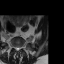CCS_severe_stenosis: (17, 45, 18, 52)
LFS_normal: (20, 45, 22, 49)
LLS_normal: (18, 45, 20, 51)
RFS_stenosis: (13, 45, 15, 51)
RLS_normal: (15, 45, 17, 51)
